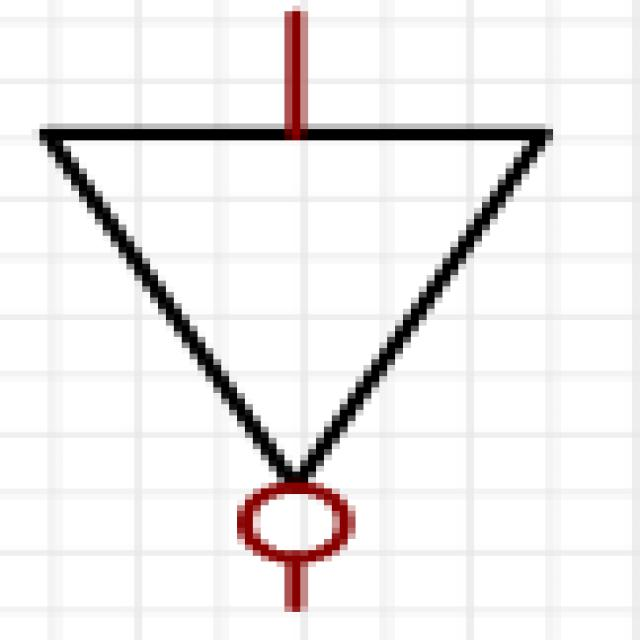inverter: (34, 8, 572, 625)
